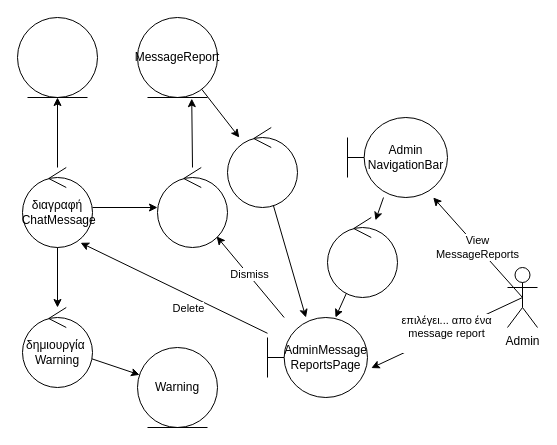
This 557x445 diagram has some shape labels left out. Here are the shapes that lost their labels. From the top down, the centre of each, then its label:
At point 57,57: "ChatMessage".
At point 262,167: "φόρτωση Message Reports".
At point 192,207: "διαγραφή MessageReport".
At point 362,257: "φορτώνει".
